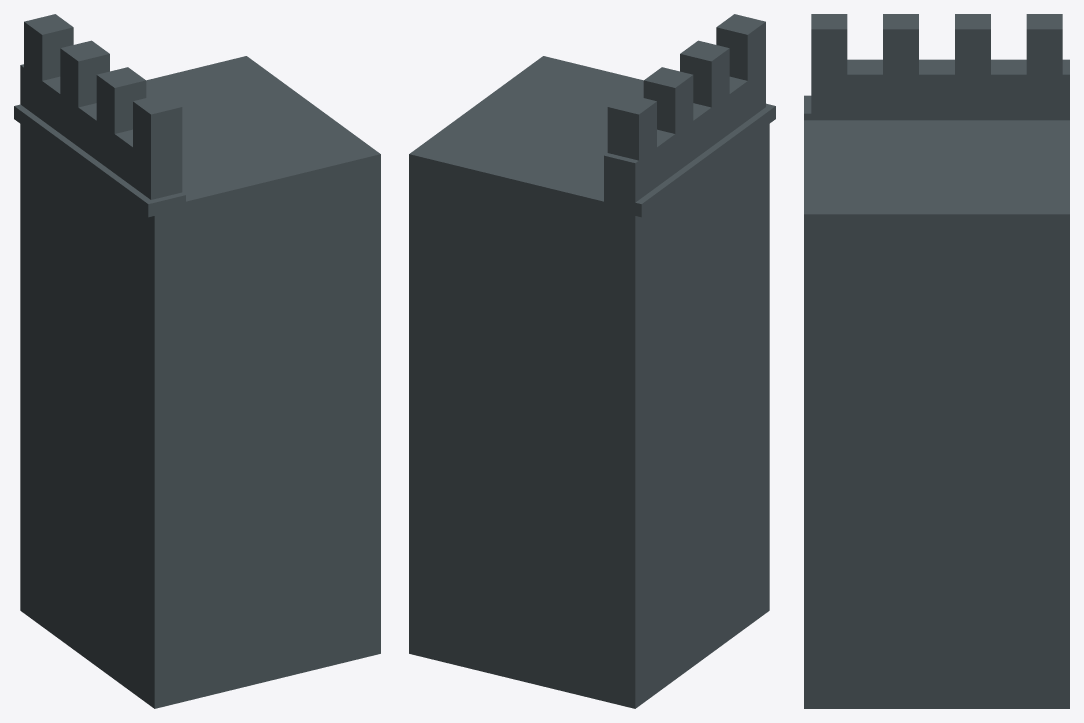
The model's file is grassy_field-9.obj.
3 views of the same model, side by side, from view 1: azimuth 30°, elevation 25°; view 2: azimuth 150°, elevation 25°; view 3: azimuth 270°, elevation 25° (orthographic).
Bounding box in the file's own units: 3.7 × 9 × 3.7.
Materials: 1 (1 with a texture image).
